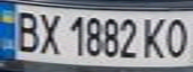1: (63, 12, 87, 56)
2: (118, 15, 142, 60)
8: (81, 14, 106, 58), (103, 15, 121, 58)
B: (9, 8, 42, 53)
K: (139, 15, 169, 61)
O: (160, 15, 193, 60)
X: (33, 9, 63, 56)
